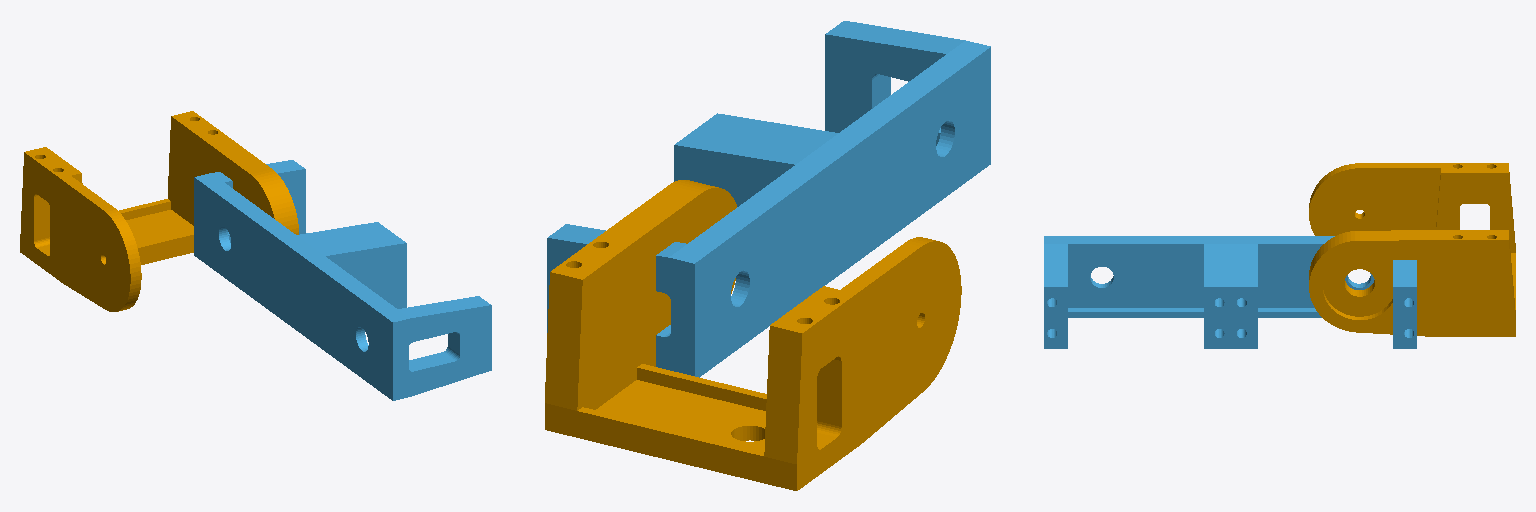
URDF robot description (walker):
<?xml version="1.0" encoding="UTF-8"?>
  <robot name="walker">

    <link name="hip_lf">
       <inertial>
        <origin xyz="0 0 0" rpy="0 0 0"/>
        <mass value="0.033238"/>
        <inertia ixx="0.000012095" ixy="0.000000473" ixz="-0.000000161" iyy="0.000019489" iyz="0.000001093" izz="0.000025287"/>
      </inertial>
      <visual name="hip_lf1">
        <origin xyz="0 0 0" rpy="0 0 0"/>
        <geometry>
          <mesh filename="package://hex_walker/mesh/hip_v1.stl" scale="1.0 1.0 1.0"/>
        </geometry>
      </visual>
      <collision name="hip_lf_c">
        <origin xyz="0 0 0" rpy="0 0 0"/>
        <geometry>
          <mesh filename="package://hex_walker/mesh/hip_v1.stl" scale="1.0 1.0 1.0"/>
        </geometry>
      </collision>
    </link>

    <link name="midleg_lf">
      <inertial>
        <origin xyz="0 -.0395 0" rpy="0 0 0"/>
        <mass value="0.108"/>
        <inertia ixx="0.0001029" ixy="0.000000127" ixz="-6.3e-11" iyy="0.000013792" iyz="2.07e-10" izz="0.0001075"/>
      </inertial>
      <visual name="midleg_lf1">
        <origin xyz="0 -.0395 0" rpy="0 0 0"/>
        <geometry>
          <mesh filename="package://hex_walker/mesh/midleg_v2.stl" scale="1.0 1.0 1.0"/>
        </geometry>
      </visual>
      <collision name="midleg_lf_c">
        <origin xyz="0 -.0395 0" rpy="0 0 0"/>
        <geometry>
          <mesh filename="package://hex_walker/mesh/midleg_v2.stl" scale="1.0 1.0 1.0"/>
        </geometry>
        <surface>
          <friction>
            <ode>
              <mu>0.85</mu>
              <mu2>0.85</mu2>
            </ode>
          </friction>
        </surface>
      </collision>
    </link>

    <joint name="left_front_hip_joint" type="revolute">
      <origin xyz="0.02 -.02 0" rpy="0 0 0"/>
      <parent link="hip_lf"/>
      <child link="midleg_lf"/>
      <axis xyz="1 0 0"/>
      <limit lower="-1.22173" upper="1.48353" effort="10" velocity="1.5708"/>
    </joint>

    <!-- <link name="foot_lf">
      <inertial>
        <origin xyz="0 0 0" rpy="0 0 0"/>
        <mass value="0.056267"/>
        <inertia ixx="0.000054442" ixy="-0.00000087" ixz="-0.00000315" iyy="0.000072163" iyz="-0.00000607" izz="0.000023722"/>
      </inertial>
      <visual name="foot_lf1">
        <origin xyz="0 0 0" rpy="0 0 0"/>
        <geometry>
          <mesh filename="package://hex_walker/mesh/footv1.stl" scale="1.0 1.0 1.0"/>
        </geometry>
      </visual>
      <collision name="foot_lf_c">
        <origin xyz="0 0 0" rpy="0 0 0"/>
        <geometry>
          <mesh filename="package://hex_walker/mesh/footv1.stl" scale="1.0 1.0 1.0"/>
        </geometry>
      </collision>
    </link> -->

  </robot>

--- Facts derived from the render (not from the file) ---
Views: 3 orthographic renders of the robot side by side, from view 1: azimuth 30°, elevation 25°; view 2: azimuth 150°, elevation 25°; view 3: azimuth 270°, elevation 25°.
Model walker with 2 links and 1 joints (1 revolute), rooted at hip_lf, posed every joint at zero.
Links seen in each view (by area): view 1: midleg_lf, hip_lf; view 2: hip_lf, midleg_lf; view 3: hip_lf, midleg_lf.
Boxes of the visible links, x1,y1,x2,y2 form: midleg_lf: (194,160,491,400); hip_lf: (20,111,298,311); hip_lf: (545,180,961,490); midleg_lf: (547,21,990,377); hip_lf: (1309,163,1515,336); midleg_lf: (1044,236,1416,348).
Bounding box of the posed robot: 0.0702 × 0.1391 × 0.0315 m (x, y, z).
Meshes: 2 distinct files referenced, 2 mesh visuals loaded (2 binary STL).